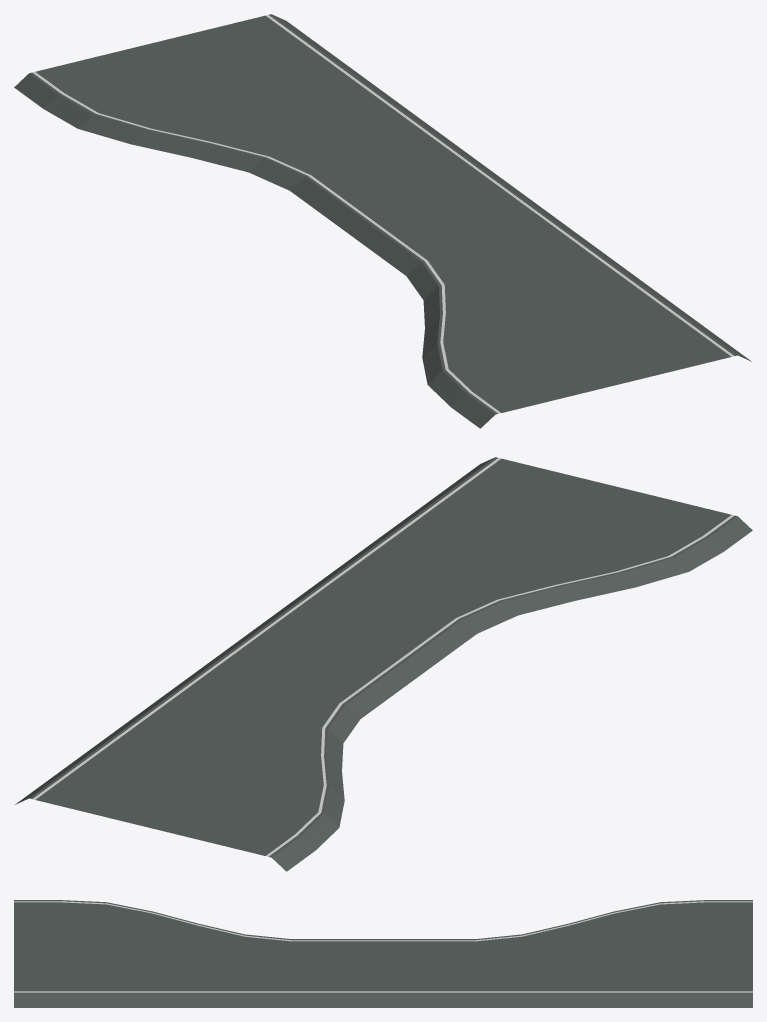
The model's file is Straight_Narrowing.fbx.
3 renders of one model, top to bottom at view 1: azimuth 30°, elevation 25°; view 2: azimuth 150°, elevation 25°; view 3: azimuth 270°, elevation 25°, orthographic. The views are drawn at different scales.
Parts seen in each view (by area): view 1: Road; view 2: Road; view 3: Road.
Part boxes in pixels (x1,y1,x2,y2): Road: (14, 14, 751, 428); Road: (15, 457, 752, 871); Road: (14, 900, 752, 1007).
Bounding box in the file's own units: 27 × 1 × 80.
